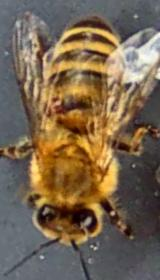varroa_mite: (32, 85, 68, 119)
